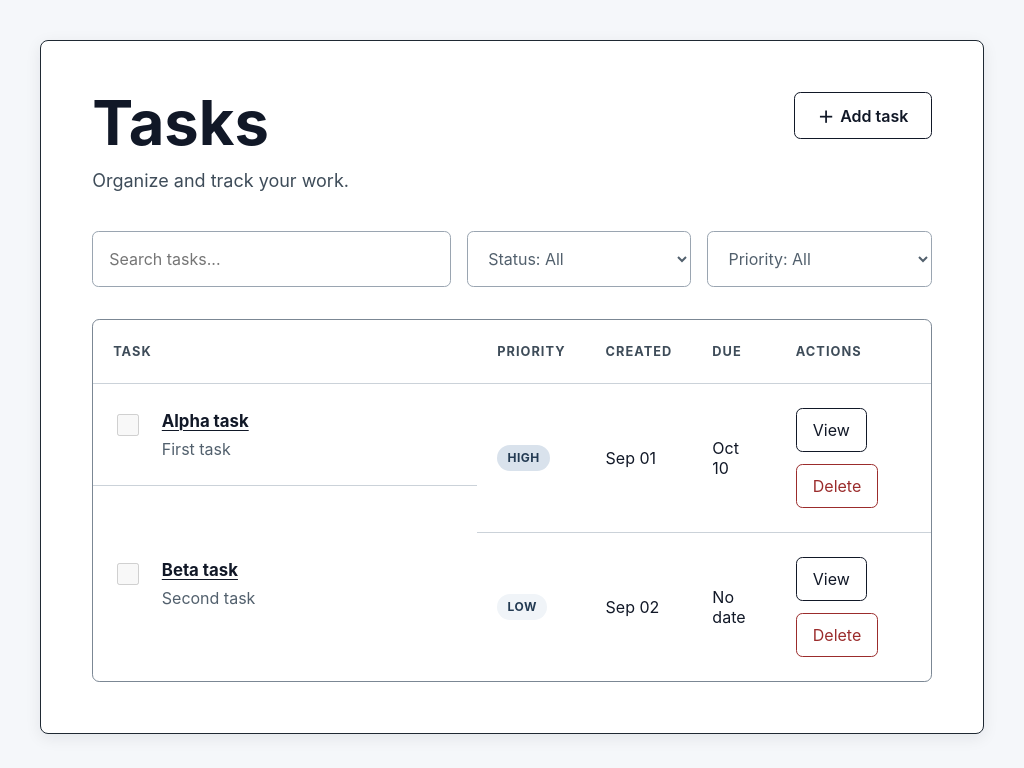
Scenario: TasksListPage deletion › waits for success, prevents repeated requests, removes the task, and closes
This screenshot has width=1024, height=768.
Click the button with aria-label "Delete Alpha task": (837, 486) [796,464,878,508]
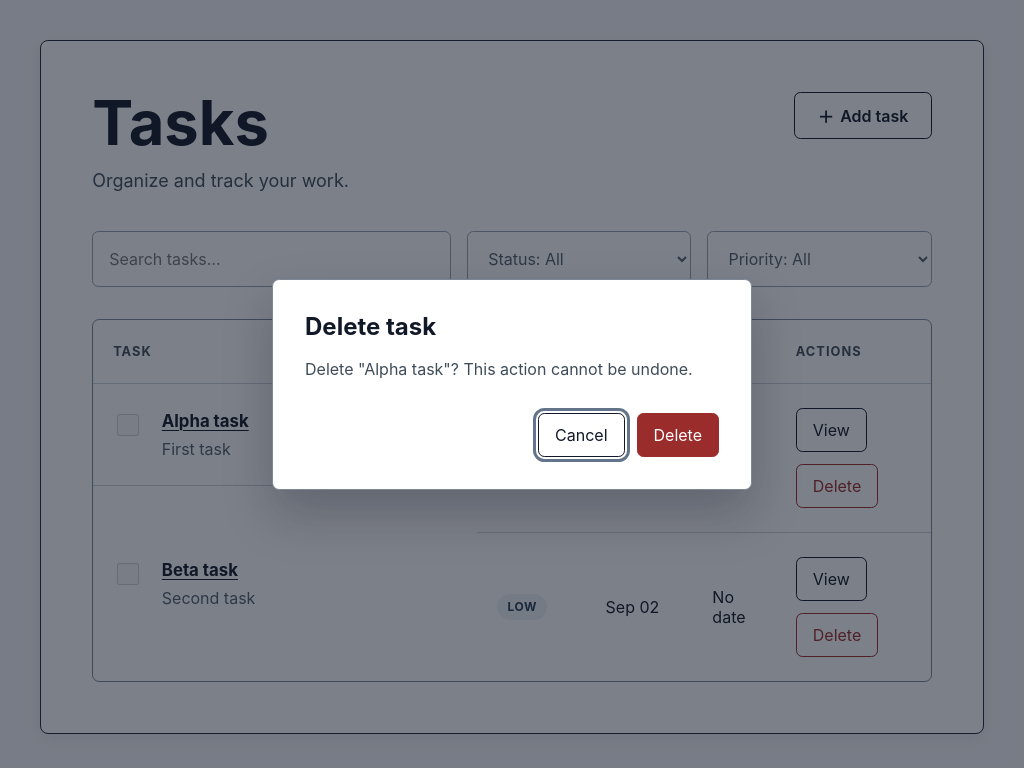
Click the button "Delete": (678, 434) [636,412,719,456]
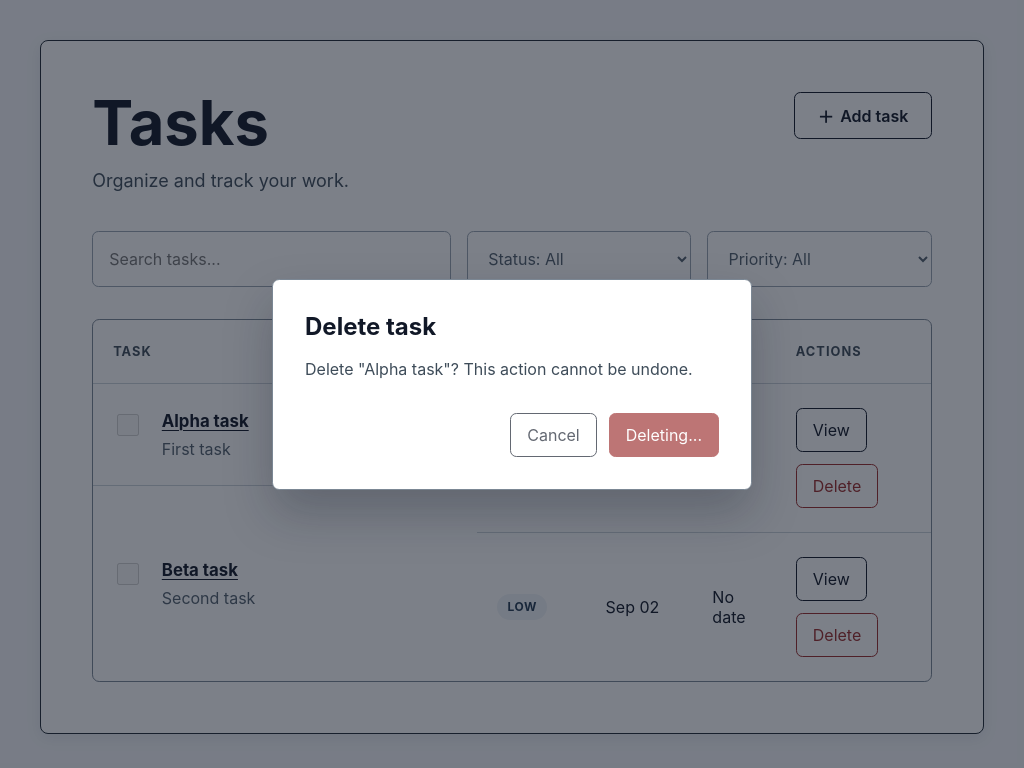
Expected: the link "Alpha task" is shown, [162,411,249,431]
Result: the button "Deleting..." is disabled
Click the button "Deleting...": (664, 434) [609,412,719,456]
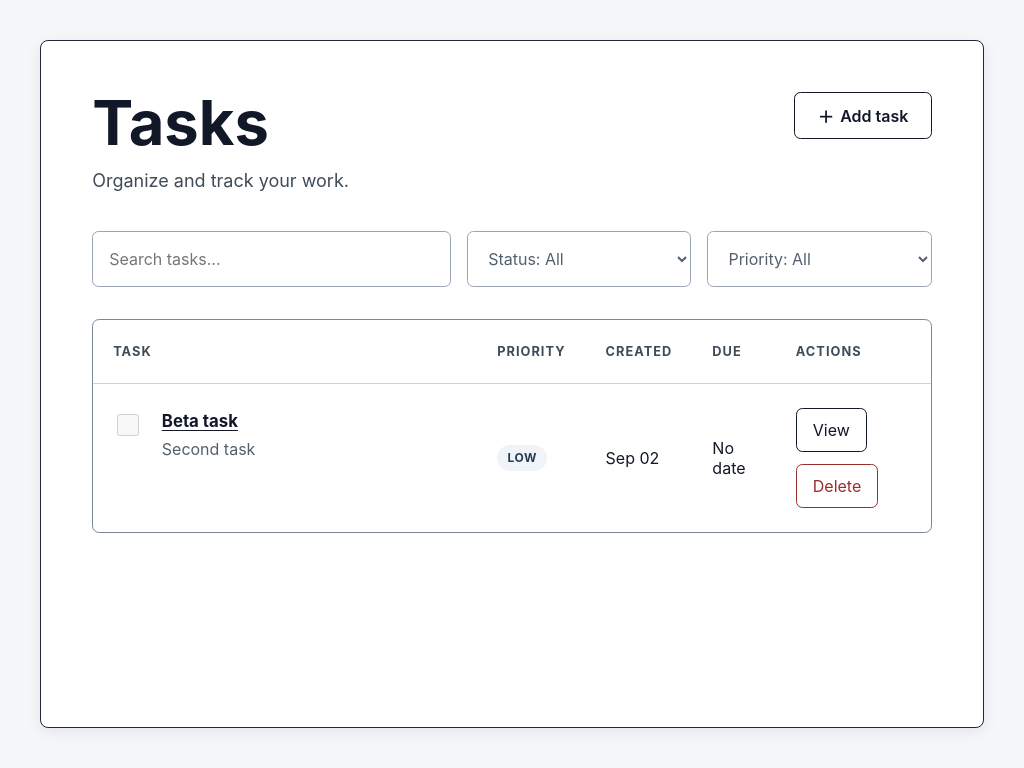
Expected: the link "Beta task" is shown, [162,411,238,431]
Result: the link "Alpha task" is gone
Result: the dialog is gone
